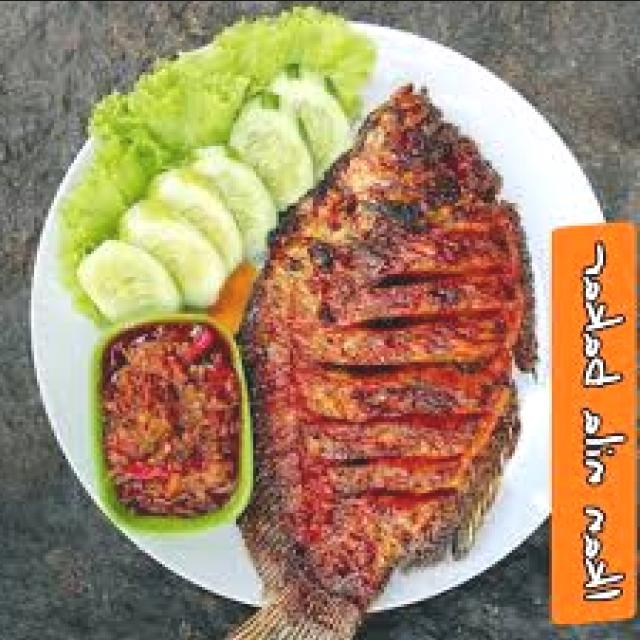ikan bakar: (225, 88, 535, 640)
